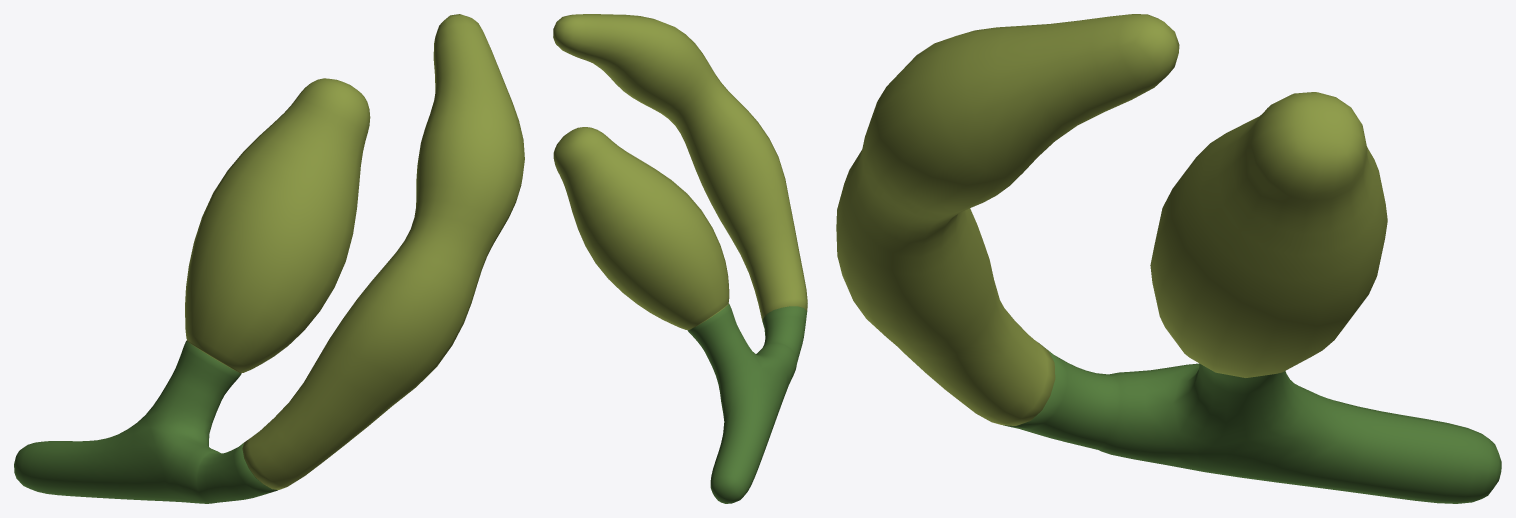
File: spore_bit_four.fbx
3 views of the same model, side by side, from view 1: azimuth 30°, elevation 25°; view 2: azimuth 150°, elevation 25°; view 3: azimuth 270°, elevation 25° (orthographic). The views are drawn at different scales.
Visible parts, largest first — view 1: spore bit four; view 2: spore bit four; view 3: spore bit four.
Boxes of the visible parts, x1,y1,x2,y2 form: spore bit four: [14, 14, 524, 503]; spore bit four: [553, 14, 807, 503]; spore bit four: [836, 14, 1501, 503].
Bounding box in the file's own units: 513 × 656 × 558.
